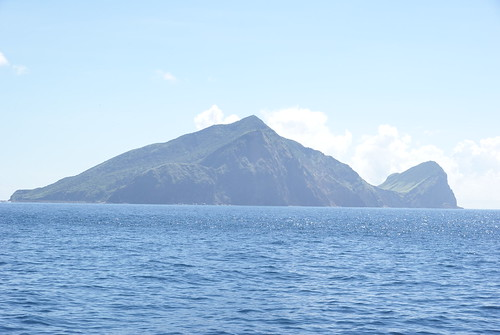turtleIsland: (8, 115, 464, 211)
